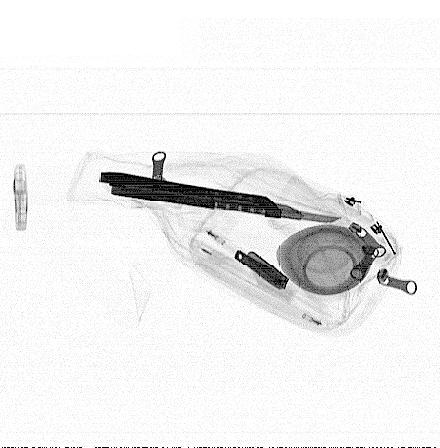Knife: (99, 171, 341, 224)
